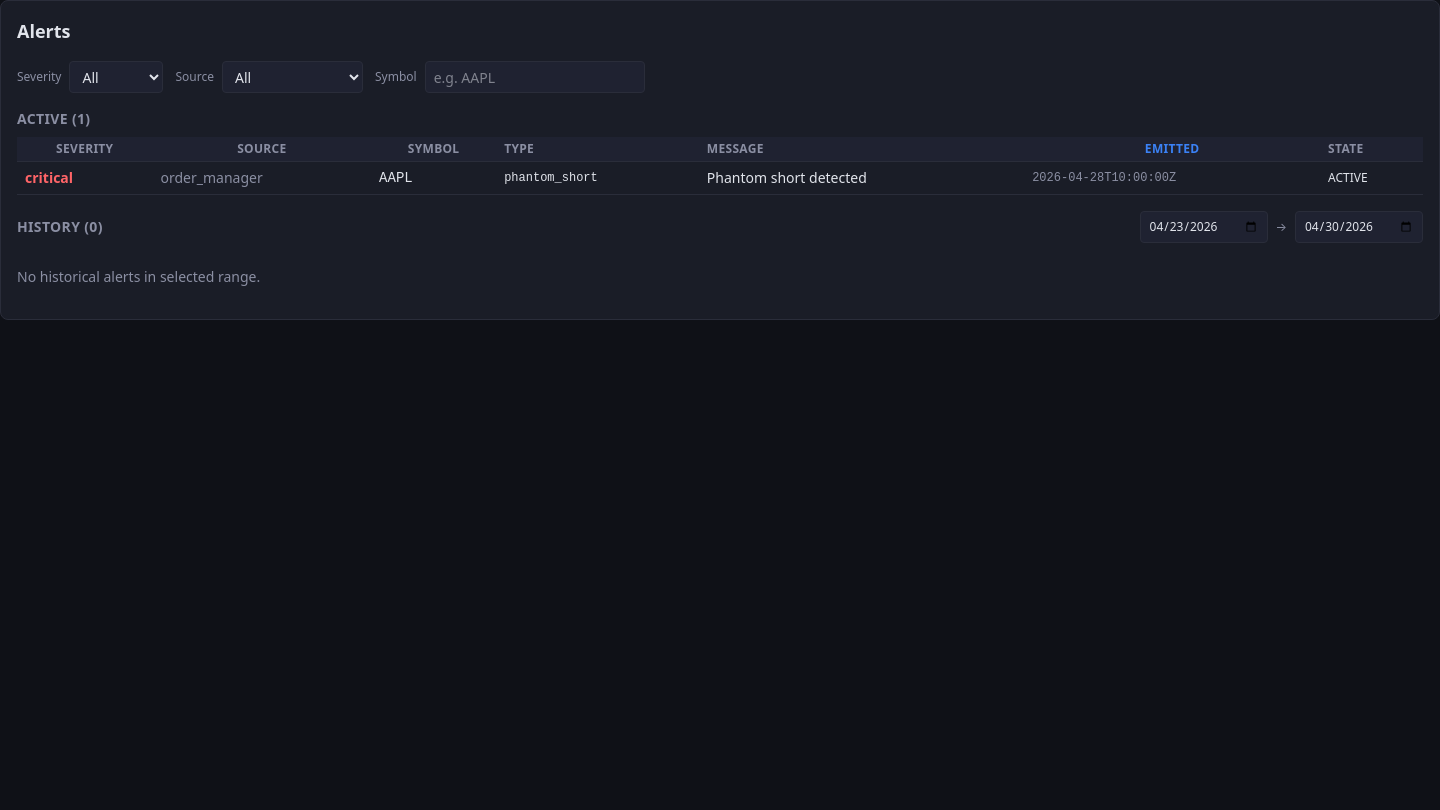
Scenario: AlertsPanel › renders audit-empty placeholder when an alert has no audit entries
Click the button with test id "alerts-table-active-row-no-audit" at (720, 178), box [17,162,1423,194]
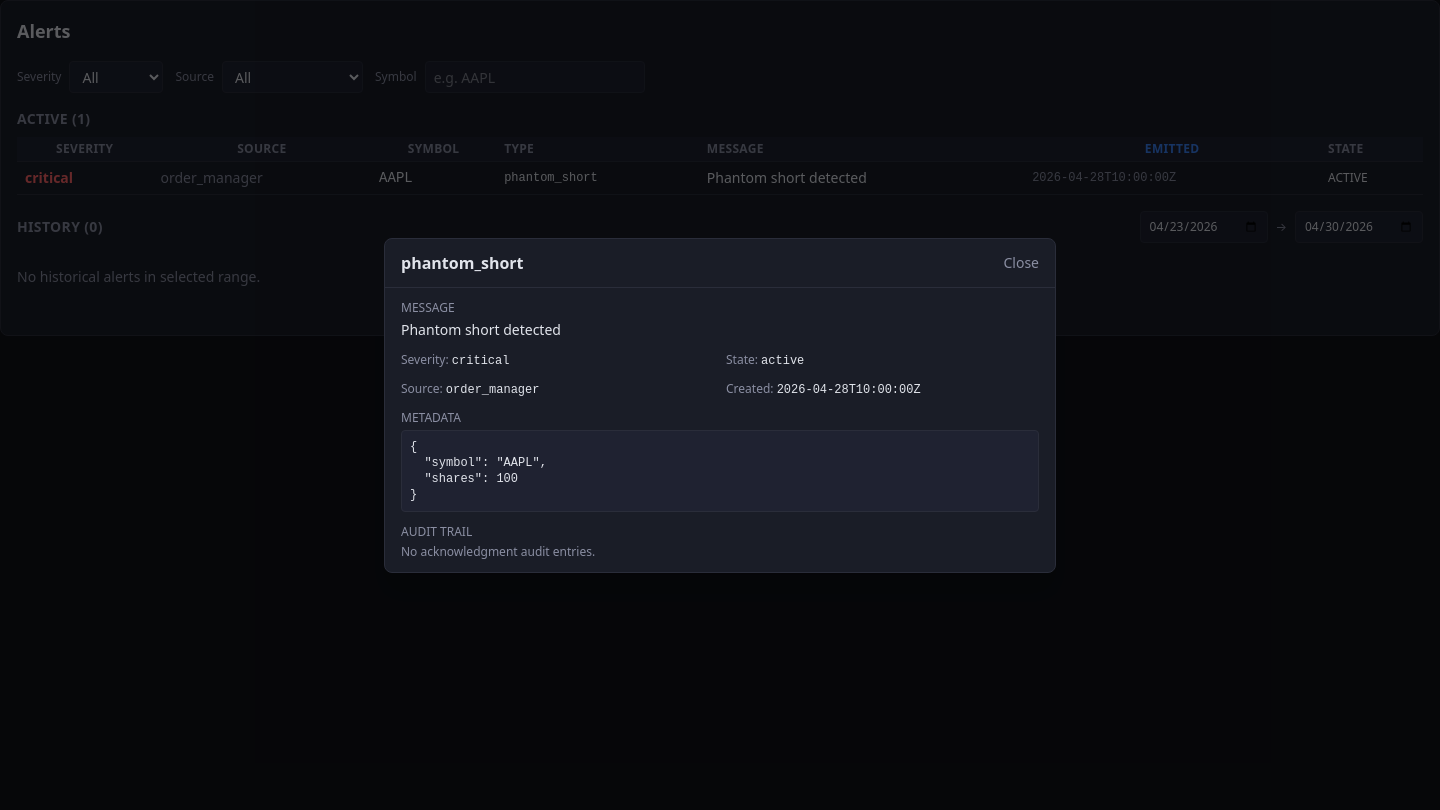
Now the text "No acknowledgment audit entries." is shown, box [401,542,595,560]
